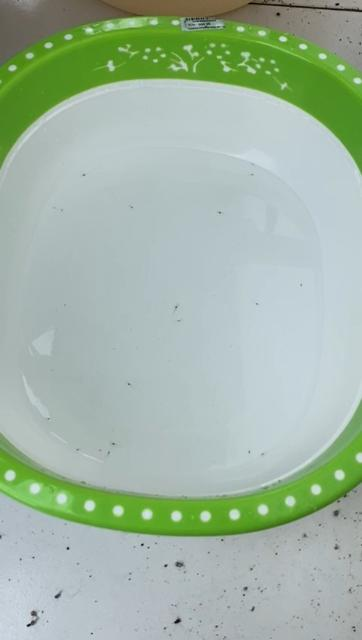benur: (261, 449, 270, 458), (299, 283, 306, 289), (178, 317, 184, 324), (127, 381, 133, 388), (109, 440, 116, 446), (246, 448, 253, 454), (98, 448, 104, 454), (61, 301, 67, 307), (175, 302, 180, 309), (75, 447, 82, 452), (82, 173, 88, 178), (107, 449, 112, 455), (53, 205, 58, 210), (130, 205, 135, 210), (216, 210, 221, 215), (60, 208, 66, 212), (255, 301, 259, 305), (250, 173, 255, 176), (251, 163, 255, 166), (48, 417, 52, 420)
